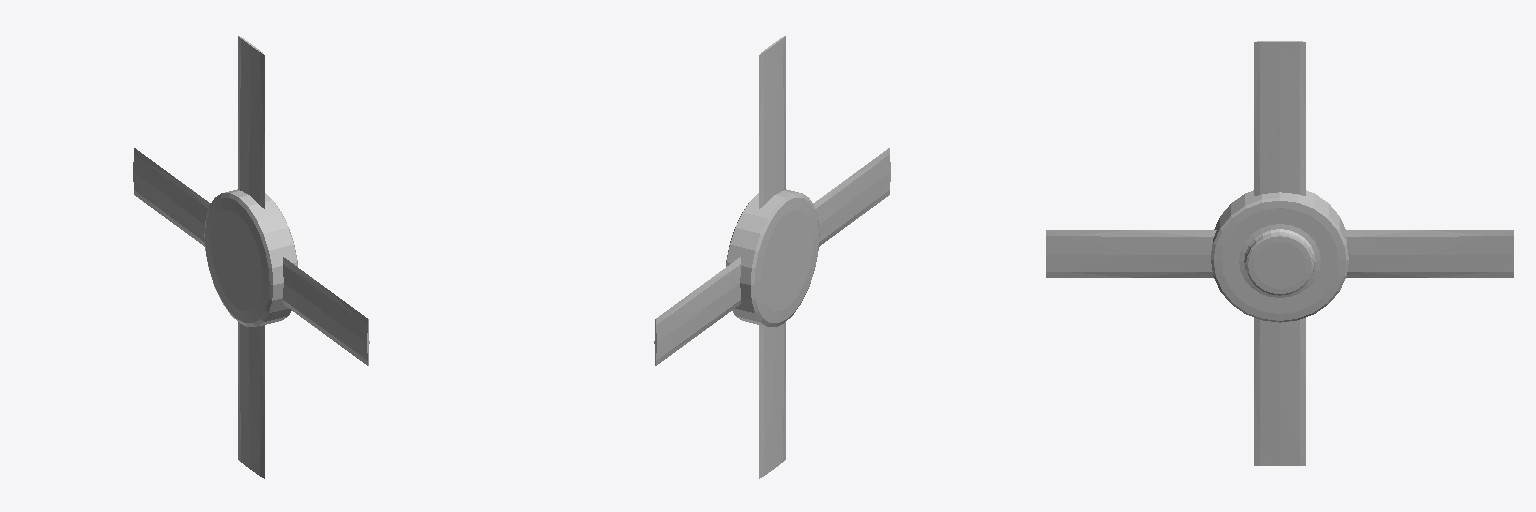
The model's file is heliProp2.obj.
3 views of the same model, side by side, from view 1: azimuth 30°, elevation 25°; view 2: azimuth 150°, elevation 25°; view 3: azimuth 270°, elevation 25° (orthographic).
Parts seen in each view (by area): view 1: Cylinder.002, Cube.001, Cube.005, Cube.003, Cube.004; view 2: Cylinder.002, Cube.001, Cube.004, Cube.003, Cube.005; view 3: Cylinder.002, Cube.005, Cube.004, Cube.001, Cube.003.
Boxes of the visible parts, x1,y1,x2,y2 form: Cylinder.002: [204, 189, 297, 326]; Cube.001: [238, 36, 264, 208]; Cube.005: [283, 257, 369, 365]; Cube.003: [238, 322, 264, 478]; Cube.004: [133, 148, 210, 246]; Cylinder.002: [726, 189, 819, 326]; Cube.001: [759, 36, 785, 208]; Cube.004: [654, 257, 740, 365]; Cube.003: [759, 322, 785, 478]; Cube.005: [813, 148, 890, 246]; Cylinder.002: [1211, 190, 1348, 322]; Cube.005: [1046, 230, 1216, 277]; Cube.004: [1343, 230, 1513, 277]; Cube.001: [1254, 41, 1305, 195]; Cube.003: [1254, 318, 1305, 465].
Bounding box in the file's own units: 0.6517 × 6.86 × 6.86.